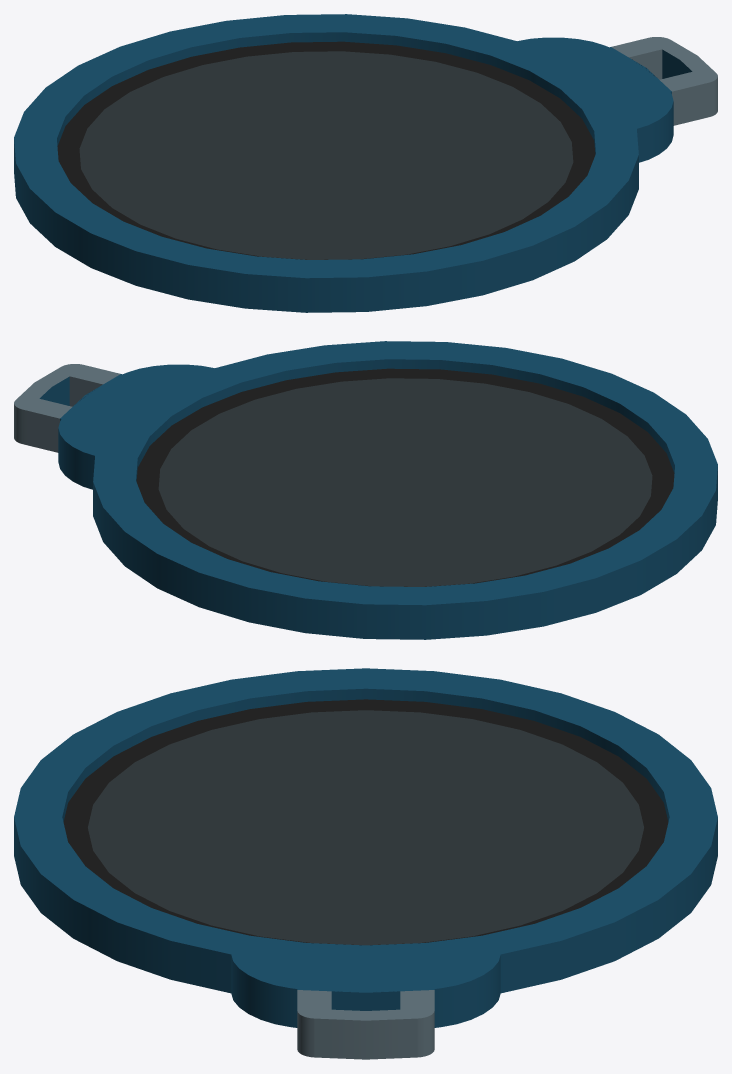
Rendered from LLaveMagnetica.fbx.
3 views of the same model, one above another, from view 1: azimuth 30°, elevation 25°; view 2: azimuth 150°, elevation 25°; view 3: azimuth 270°, elevation 25° (orthographic). The views are drawn at different scales.
Parts seen in each view (by area): view 1: Circle; view 2: Circle; view 3: Circle.
Part boxes in pixels (left/top/right/bottom): Circle: left=14, top=14, right=717, bottom=312; Circle: left=14, top=341, right=717, bottom=639; Circle: left=14, top=668, right=717, bottom=1059.
Size of the model in its own units: 30.88 by 1.59 by 26.07.
Materials: 1 (1 with a texture image).
